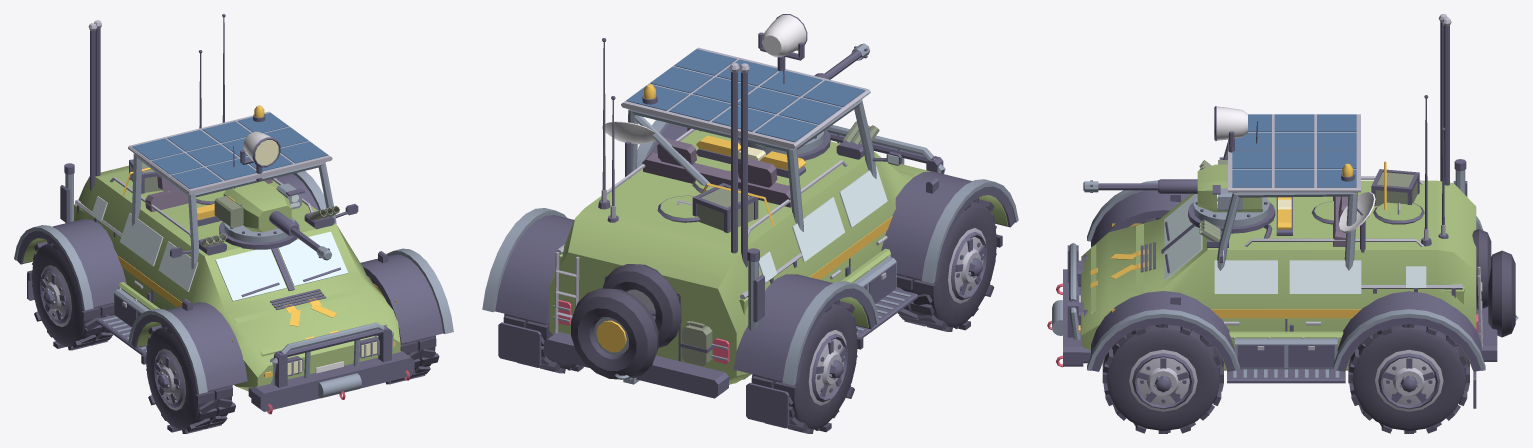
The model's file is rover.glb.
The picture shows the model from 3 angles, left to right: view 1: azimuth 30°, elevation 25°; view 2: azimuth 150°, elevation 25°; view 3: azimuth 270°, elevation 25°; orthographic projection. The views are drawn at different scales.
Parts seen in each view (by area): view 1: mil_hull, civ_cells, mil_arch-11, mil_arch11, mil_arch-1-1, mil_pushBar, mil_wind-0.56, mil_tyre0, mil_tyre2, civ_cage, civ_canopy, mil_wind0.56 (+31 smaller); view 2: mil_hull, civ_cells, mil_arch-1-1, mil_arch-11, mil_spare, mil_arch1-1, civ_cage, mil_tyre2, mil_tyre0, mil_rearBumper, civ_canopy, civ_spare (+36 smaller); view 3: mil_hull, civ_cells, mil_tyre3, mil_tyre1, mil_arch1-1, mil_arch11, mil_side11, civ_rim3, civ_rim1, mil_spare, mil_side10, civ_canopy (+36 smaller).
Part boxes in pixels (x1,y1,x2,y2): mil_hull: (74, 165, 400, 391); civ_cells: (132, 112, 328, 188); mil_arch-11: (131, 302, 247, 392); mil_arch11: (360, 254, 443, 343); mil_arch-1-1: (17, 219, 126, 308); mil_pushBar: (251, 351, 414, 411); mil_wind-0.56: (215, 249, 286, 301); mil_tyre0: (146, 327, 232, 430); mil_tyre2: (32, 243, 114, 346); civ_cage: (131, 153, 336, 269); civ_canopy: (128, 111, 332, 194); mil_wind0.56: (278, 231, 347, 286); mil_hull: (549, 130, 930, 384); civ_cells: (626, 49, 865, 142); mil_arch-1-1: (733, 274, 875, 383); mil_arch-11: (881, 171, 1014, 281); mil_spare: (571, 288, 658, 379); mil_arch1-1: (495, 215, 574, 323); civ_cage: (628, 99, 876, 231); mil_tyre2: (752, 303, 857, 429); mil_tyre0: (896, 202, 996, 327); mil_rearBumper: (544, 331, 728, 398); civ_canopy: (621, 47, 870, 149); civ_spare: (602, 264, 681, 348); mil_hull: (1081, 180, 1476, 350); civ_cells: (1232, 114, 1356, 187); mil_tyre3: (1352, 325, 1465, 430); mil_tyre1: (1106, 325, 1220, 430); mil_arch1-1: (1337, 291, 1481, 371); mil_arch11: (1091, 291, 1235, 371); mil_side11: (1289, 260, 1361, 293); civ_rim3: (1375, 349, 1443, 411); civ_rim1: (1129, 349, 1197, 411); mil_spare: (1488, 250, 1515, 337); mil_side10: (1214, 260, 1277, 293); civ_canopy: (1228, 114, 1360, 192).
Bounding box in the file's own units: 4.8 × 5.21 × 6.91.
